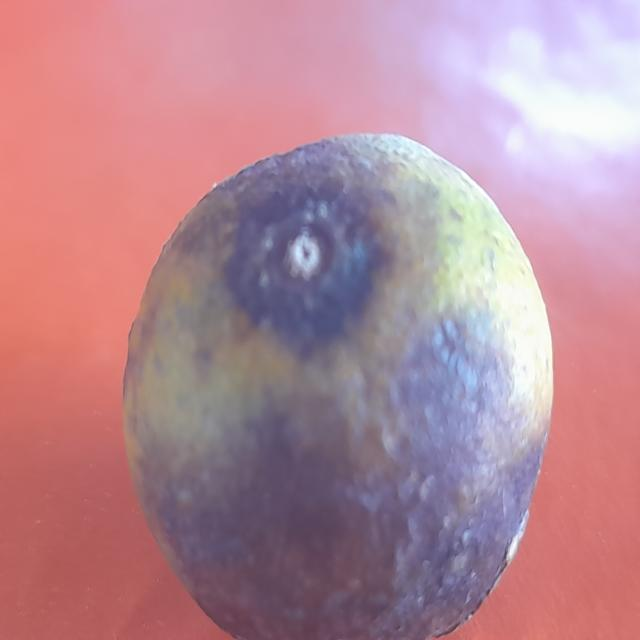black spot: (121, 99, 579, 637)
